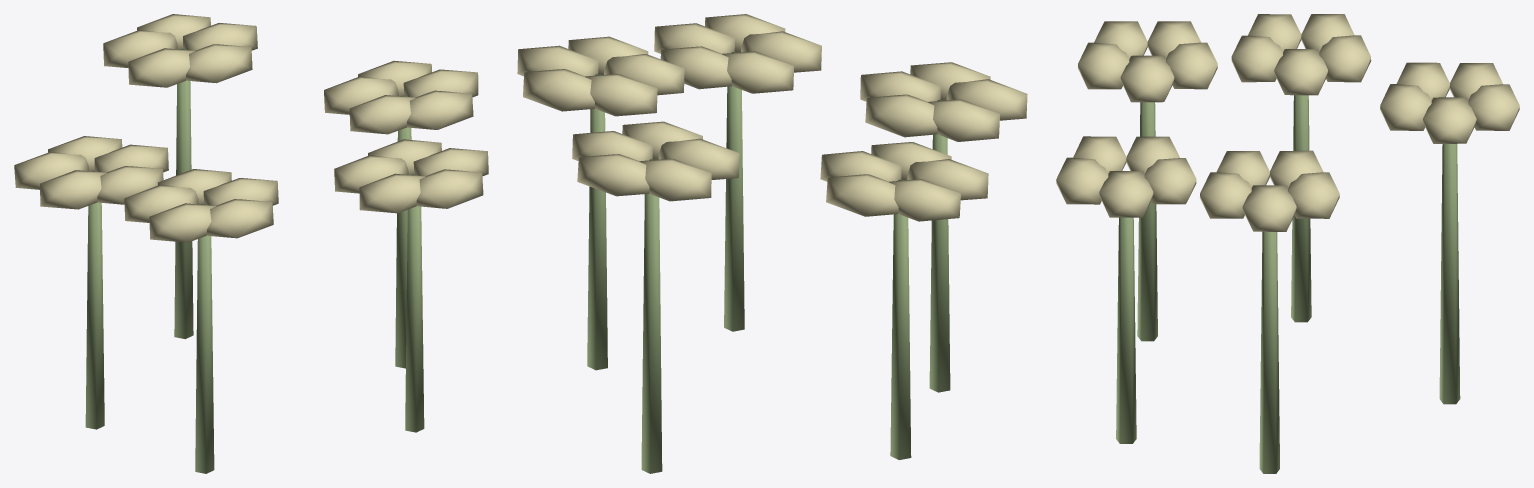
Rendered from SM_Wildflowers.fbx.
3 renders of one model, left to right at view 1: azimuth 30°, elevation 25°; view 2: azimuth 150°, elevation 25°; view 3: azimuth 270°, elevation 25°, orthographic. The views are drawn at different scales.
Parts seen in each view (by area): view 1: SM_Wildflowers; view 2: SM_Wildflowers; view 3: SM_Wildflowers.
Part boxes in pixels (left/top/right/bottom): SM_Wildflowers: left=14, top=14, right=488, bottom=473; SM_Wildflowers: left=517, top=14, right=1027, bottom=473; SM_Wildflowers: left=1056, top=14, right=1519, bottom=473.
Size of the model in its own units: 58.66 by 51.28 by 38.71.
